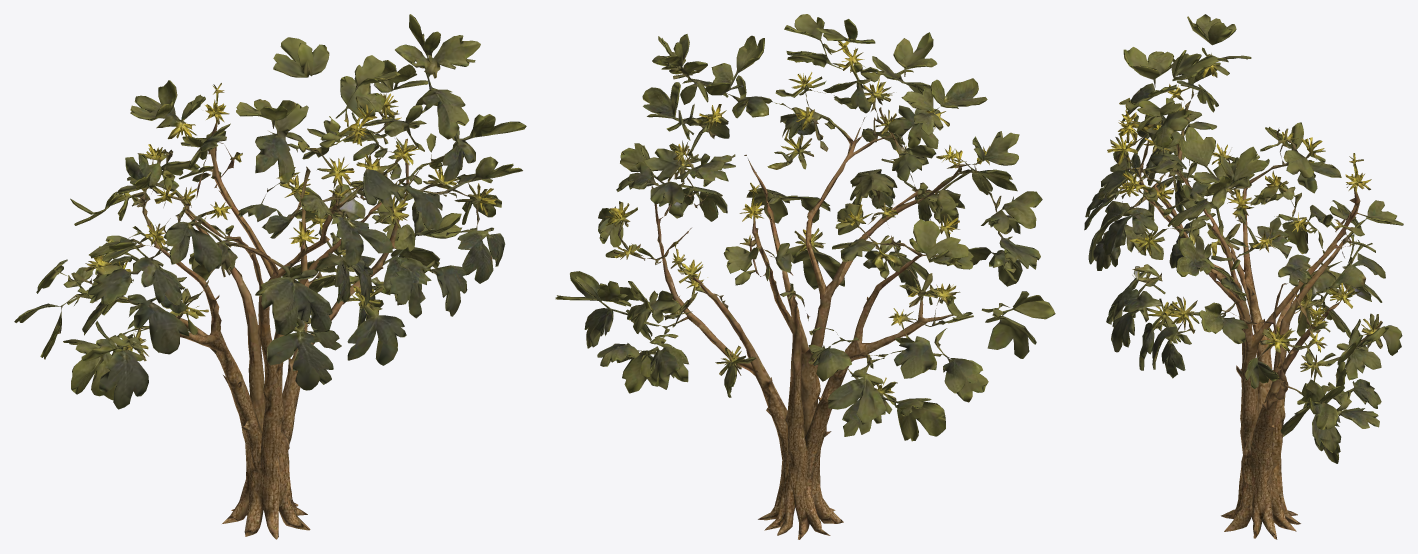
Rendered from JapaneseSpicebush.glb.
3 views of the same model, side by side, from view 1: azimuth 30°, elevation 25°; view 2: azimuth 150°, elevation 25°; view 3: azimuth 270°, elevation 25° (orthographic). The views are drawn at different scales.
Parts seen in each view (by area): view 1: Mesh_0; view 2: Mesh_0; view 3: Mesh_0.
Part boxes in pixels (left/top/right/bottom): Mesh_0: left=14, top=14, right=526, bottom=539; Mesh_0: left=555, top=14, right=1055, bottom=539; Mesh_0: left=1084, top=14, right=1403, bottom=539.
Size of the model in its own units: 0.9376 by 1 by 0.6169.
Materials: 1 (1 with a texture image).
